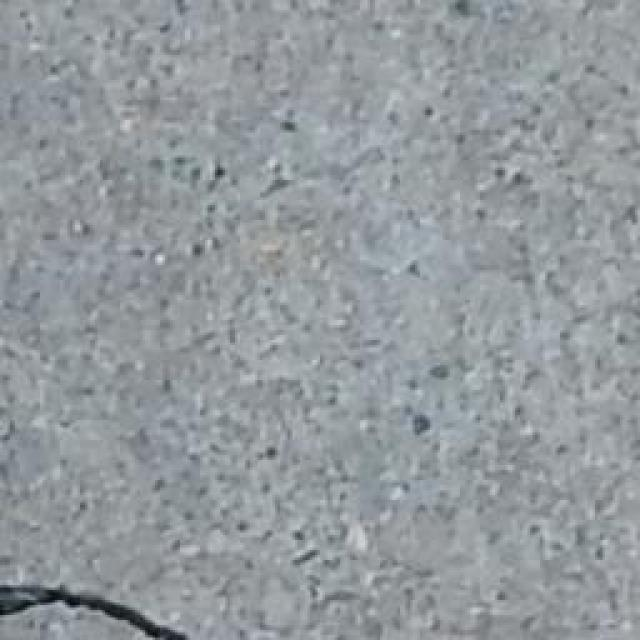concrete-crack: (0, 574, 198, 640)
